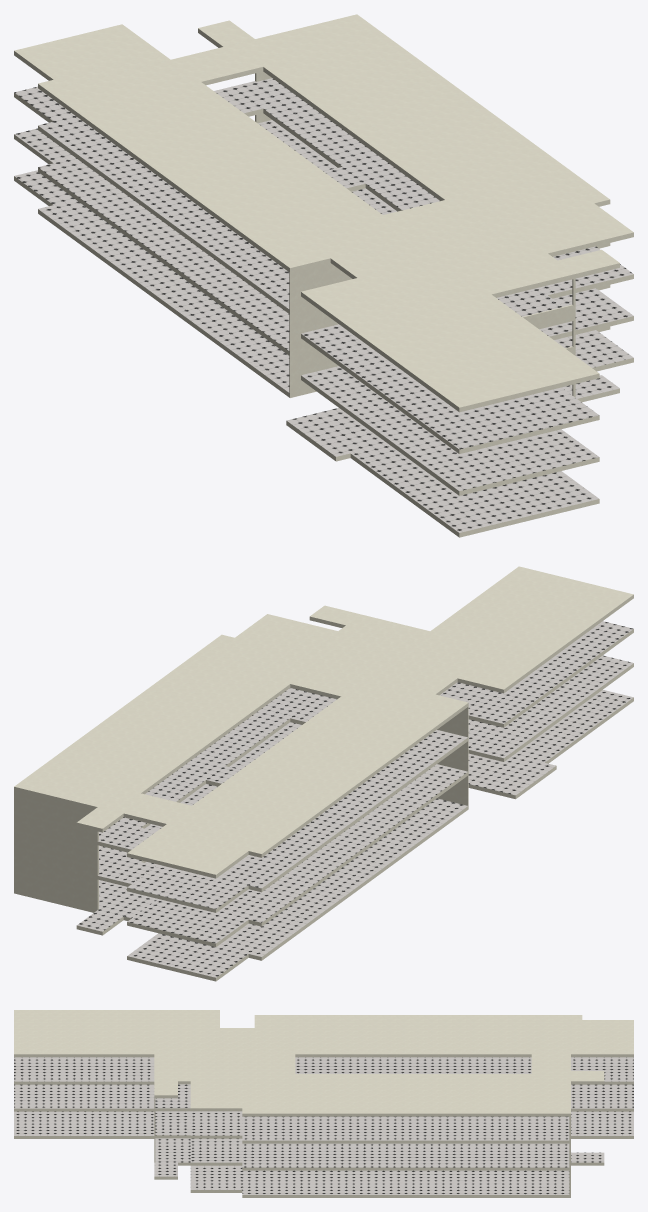
File: Labter-transformed.glb
The picture shows the model from 3 angles, top to bottom: view 1: azimuth 30°, elevation 25°; view 2: azimuth 150°, elevation 25°; view 3: azimuth 270°, elevation 25°; orthographic projection. The views are drawn at different scales.
Parts seen in each view (by area): view 1: Floor_1; view 2: Floor_1; view 3: Floor_1.
Part boxes in pixels (bbox=[...]): Floor_1: bbox=[14, 14, 633, 537]; Floor_1: bbox=[14, 566, 633, 981]; Floor_1: bbox=[14, 1010, 633, 1197].
Bounding box in the file's own units: 38.43 × 14 × 93.18.
Materials: 2 (2 with a texture image).
